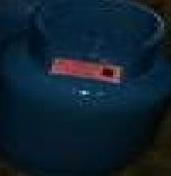cylinder: (1, 0, 171, 176)
